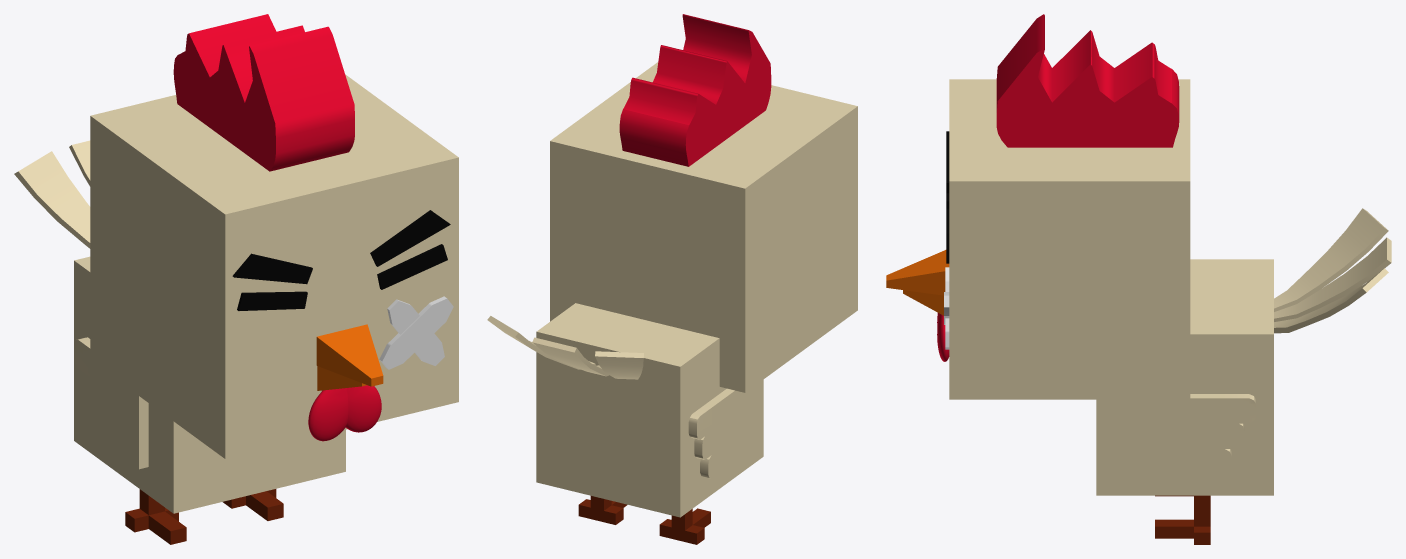
Rendered from Lv04_Byusri.fbx.
3 renders of one model, left to right at view 1: azimuth 30°, elevation 25°; view 2: azimuth 150°, elevation 25°; view 3: azimuth 270°, elevation 25°, orthographic. The views are drawn at different scales.
Parts seen in each view (by area): view 1: polySurface4, pCube17, polySurface12, polySurface10, pCube14, polySurface13, pCube19, polySurface6, pSphere2, polySurface9, polySurface14, pSphere1 (+6 smaller); view 2: polySurface4, polySurface12, pCube17, polySurface10, polySurface6, pCube14, pCube12, polySurface11, pCube13; view 3: polySurface4, polySurface12, pCube17, polySurface7, pCube14, pCube12, polySurface13, polySurface11, pCube13.
Boxes of the visible parts, x1,y1,x2,y2 form: polySurface4: (90, 74, 458, 458); pCube17: (173, 14, 354, 171); polySurface12: (74, 256, 345, 513); polySurface10: (74, 337, 148, 469); pCube14: (14, 151, 90, 248); polySurface13: (316, 324, 383, 386); pCube19: (379, 296, 453, 369); polySurface6: (125, 489, 186, 544); pSphere2: (308, 388, 348, 441); polySurface9: (370, 210, 450, 266); polySurface14: (232, 253, 312, 284); pSphere1: (345, 385, 381, 432); polySurface4: (550, 62, 857, 392); polySurface12: (536, 303, 763, 517); pCube17: (619, 14, 771, 166); polySurface10: (688, 388, 750, 478); polySurface6: (659, 508, 710, 544); pCube14: (595, 351, 643, 379); pCube12: (532, 337, 609, 376); polySurface11: (578, 496, 627, 524); pCube13: (487, 316, 595, 369); polySurface4: (949, 79, 1190, 399); polySurface12: (1096, 259, 1273, 495); pCube17: (996, 14, 1179, 147); polySurface7: (1140, 394, 1256, 474); pCube14: (1274, 208, 1388, 311); pCube12: (1274, 237, 1391, 321); polySurface13: (886, 250, 949, 295); polySurface11: (1155, 495, 1210, 544); pCube13: (1274, 268, 1388, 333).
Bounding box in the file's own units: 15.53 × 34.32 × 32.56.
